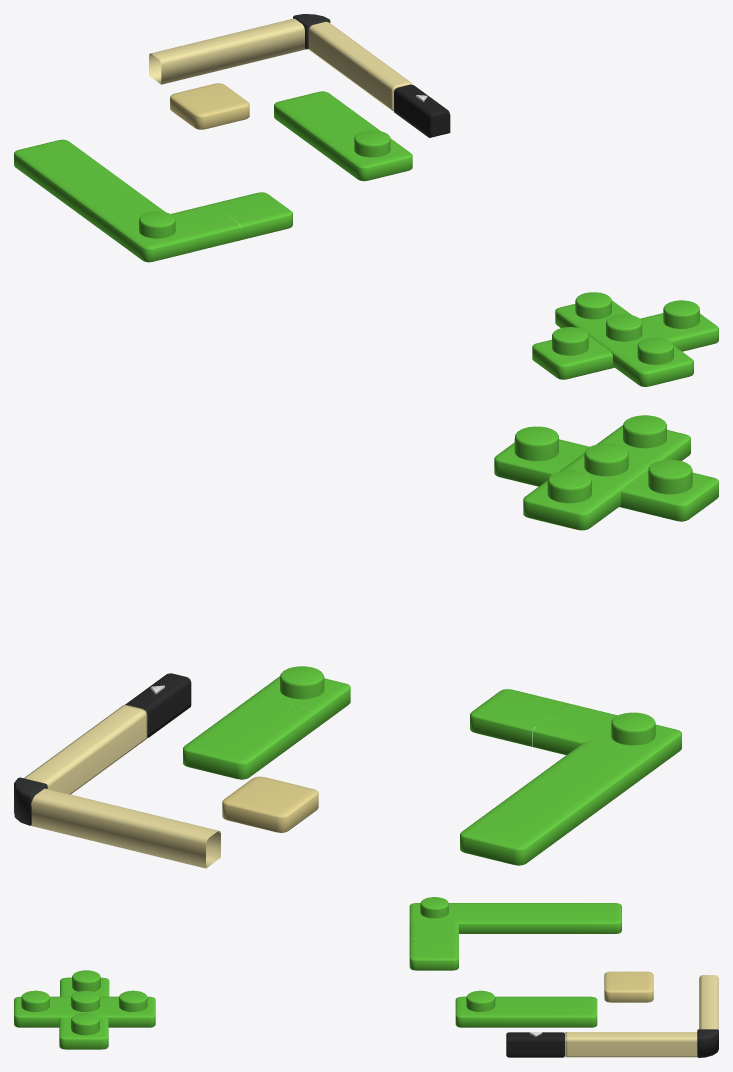
The model's file is ColorJamBlock_V3.fbx.
The picture shows the model from 3 angles, top to bottom: view 1: azimuth 30°, elevation 25°; view 2: azimuth 150°, elevation 25°; view 3: azimuth 270°, elevation 25°; orthographic projection. The views are drawn at different scales.
Parts seen in each view (by area): view 1: OpenBorders, MiddleConnectingBlock.002, CloseBorder, Cube.010, DoubleBlock.004, DoubleBlock.002, EndingConnectingBlock.004, MiddleConnectingBlock.003, DoubleBlock.001, EndingConnectingBlock, EndingConnectingBlock.006, Gates (+12 smaller); view 2: OpenBorders, MiddleConnectingBlock.002, CloseBorder, EndingConnectingBlock.006, EndingConnectingBlock, Cube.010, DoubleBlock.004, EndingConnectingBlock.003, EndingConnectingBlock.004, MiddleConnectingBlock.003, MiddleConnectingBlock, Gates (+13 smaller); view 3: MiddleConnectingBlock.002, CloseBorder, DoubleBlock.004, EndingConnectingBlock, Cube.010, EndingConnectingBlock.006, Gates, MiddleConnectingBlock, DoubleBlock.002, EndingConnectingBlock.003, EndingConnectingBlock.005, DoubleBlock.001 (+13 smaller).
Boxes of the visible parts, left/top/right/bottom form: OpenBorders: left=149, top=18, right=305, bottom=84; MiddleConnectingBlock.002: left=42, top=161, right=165, bottom=239; CloseBorder: left=308, top=21, right=412, bottom=110; Cube.010: left=170, top=83, right=249, bottom=129; DoubleBlock.004: left=211, top=192, right=292, bottom=239; DoubleBlock.002: left=330, top=138, right=412, bottom=181; EndingConnectingBlock.004: left=532, top=335, right=614, bottom=379; MiddleConnectingBlock.003: left=171, top=204, right=241, bottom=251; DoubleBlock.001: left=611, top=344, right=693, bottom=386; EndingConnectingBlock: left=274, top=91, right=355, bottom=138; EndingConnectingBlock.006: left=14, top=139, right=95, bottom=187; Gates: left=394, top=84, right=450, bottom=137; OpenBorders: left=31, top=788, right=220, bottom=868; MiddleConnectingBlock.002: left=495, top=743, right=647, bottom=838; CloseBorder: left=24, top=705, right=147, bottom=794; EndingConnectingBlock.006: left=460, top=807, right=560, bottom=865; EndingConnectingBlock: left=183, top=721, right=282, bottom=779; Cube.010: left=222, top=776, right=318, bottom=832; DoubleBlock.004: left=470, top=689, right=568, bottom=746; EndingConnectingBlock.003: left=523, top=479, right=622, bottom=530; EndingConnectingBlock.004: left=619, top=470, right=718, bottom=521; MiddleConnectingBlock.003: left=532, top=703, right=617, bottom=754; MiddleConnectingBlock: left=218, top=697, right=316, bottom=752; Gates: left=125, top=673, right=191, bottom=737; MiddleConnectingBlock.002: left=458, top=903, right=572, bottom=933; CloseBorder: left=565, top=1032, right=697, bottom=1057; DoubleBlock.004: left=409, top=938, right=458, bottom=970; EndingConnectingBlock: left=548, top=996, right=597, bottom=1027; Cube.010: left=604, top=971, right=653, bottom=1002; EndingConnectingBlock.006: left=572, top=903, right=621, bottom=933; Gates: left=506, top=1032, right=564, bottom=1057; MiddleConnectingBlock: left=505, top=996, right=547, bottom=1027; DoubleBlock.002: left=455, top=996, right=504, bottom=1027; EndingConnectingBlock.003: left=106, top=996, right=155, bottom=1027; EndingConnectingBlock.005: left=59, top=1017, right=108, bottom=1049; DoubleBlock.001: left=14, top=996, right=63, bottom=1027.
Size of the model in its own units: 377 by 30.95 by 796.
